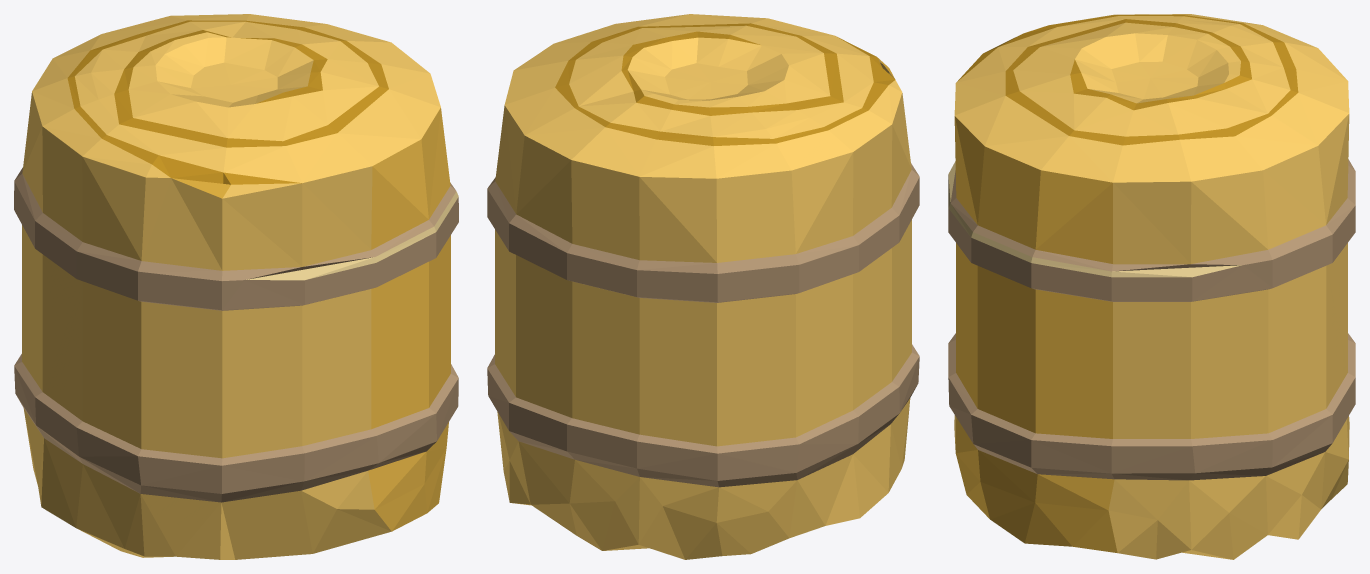
Rendered from EA_M_HayBale_Yellow_01c.fbx.
The picture shows the model from 3 angles, left to right: view 1: azimuth 30°, elevation 25°; view 2: azimuth 150°, elevation 25°; view 3: azimuth 270°, elevation 25°; orthographic projection. The views are drawn at different scales.
Parts seen in each view (by area): view 1: EA_M_HayBale_Yellow_01c_LOD0; view 2: EA_M_HayBale_Yellow_01c_LOD0; view 3: EA_M_HayBale_Yellow_01c_LOD0.
Part boxes in pixels (box(x1,y1,x2,y2)): EA_M_HayBale_Yellow_01c_LOD0: box(14, 14, 458, 559); EA_M_HayBale_Yellow_01c_LOD0: box(487, 14, 919, 559); EA_M_HayBale_Yellow_01c_LOD0: box(948, 14, 1355, 559).
Size of what is drawn, in the model's own units: 1.99 by 2.33 by 1.99.
